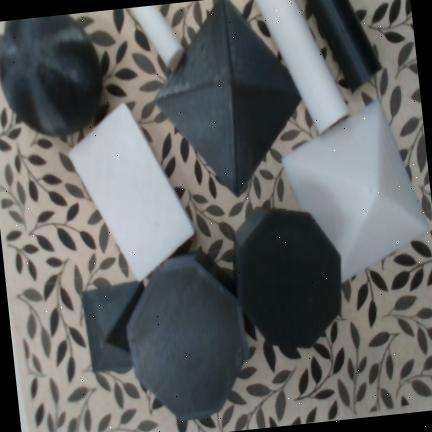Cilindro: (255, 0, 348, 133), (307, 0, 381, 91), (130, 5, 183, 69)
Esfera: (0, 14, 102, 136)
Paralelepipedo: (67, 101, 195, 282)
Piramide: (154, 0, 303, 195), (281, 99, 430, 284), (81, 279, 145, 372)
Prisma_hexagonal: (126, 249, 248, 420), (232, 207, 341, 348)
